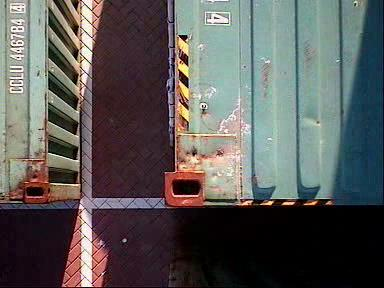groundmarker_2: (170, 1, 227, 96)
